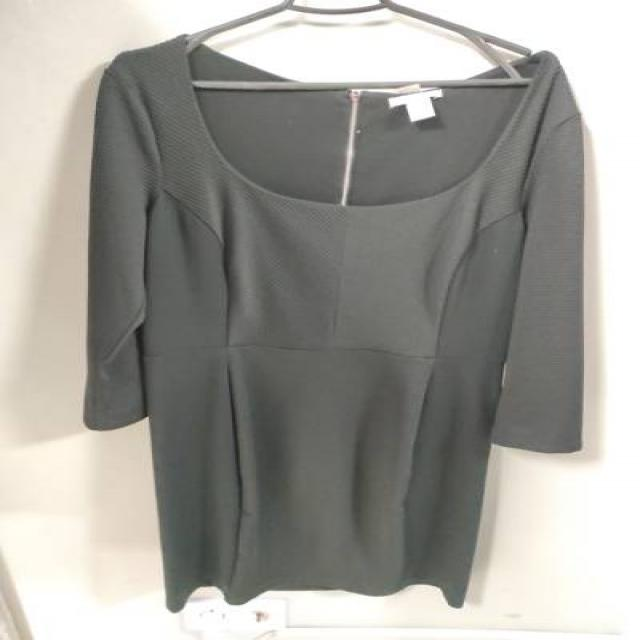Clothes -Biodegradable-: (83, 34, 584, 612)
